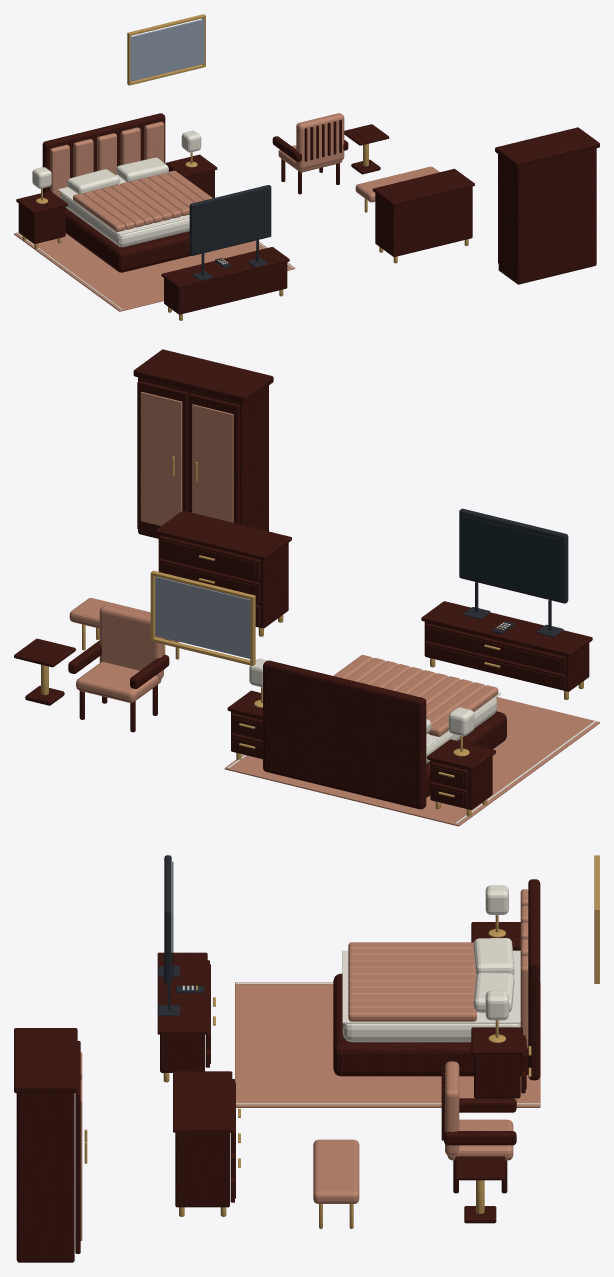
The model's file is room-08.glb.
3 renders of one model, top to bottom at view 1: azimuth 30°, elevation 25°; view 2: azimuth 150°, elevation 25°; view 3: azimuth 270°, elevation 25°, orthographic. The views are drawn at different scales.
Visible parts, largest first — view 1: WARDROBE | closed carcass.002, RUG | bound wool.002, DRESSER | closed carcass.002, TV | solid chassis.002, ART | ECLIPSE PLACEHOLDER | canvas solid.002, TV CONSOLE | closed carcass.002, BED | upholstered platform.002, WARDROBE | crown.002, BED | headboard frame.002, DRESSER | overhanging top.002, TV CONSOLE | overhanging top.002, CHAIR | shaped upholstered back.002 (+23 smaller); view 2: BED | headboard frame.002, RUG | bound wool.002, TV | SCREEN.002, ART | ECLIPSE PLACEHOLDER | canvas solid.002, WARDROBE | recessed door panel.005, WARDROBE | recessed door panel.004, WARDROBE | closed carcass.002, WARDROBE | crown.002, TV CONSOLE | overhanging top.002, DRESSER | overhanging top.002, CHAIR | shaped upholstered back.002, DRESSER | closed carcass.002 (+21 smaller); view 3: RUG | bound wool.002, WARDROBE | closed carcass.002, BED | upholstered platform.002, WARDROBE | crown.002, DRESSER | closed carcass.002, DRESSER | overhanging top.002, TV CONSOLE | overhanging top.002, LUGGAGE | upholstered bench.002, BED | sprung mattress.002, BED | headboard frame.002, BEDSIDE R | closed carcass.002, BED | quilt channel 10.002 (+26 smaller).
Part boxes in pixels (x1,y1,x2,y2): WARDROBE | closed carcass.002: (498,148,596,284); RUG | bound wool.002: (14,232,295,311); DRESSER | closed carcass.002: (375,186,472,256); TV | solid chassis.002: (189,185,271,255); ART | ECLIPSE PLACEHOLDER | canvas solid.002: (130,19,204,81); TV CONSOLE | closed carcass.002: (164,262,287,314); BED | upholstered platform.002: (65,208,190,272); WARDROBE | crown.002: (495,127,599,167); BED | headboard frame.002: (42,113,165,192); DRESSER | overhanging top.002: (372,168,474,205); TV CONSOLE | overhanging top.002: (161,247,289,288); CHAIR | shaped upholstered back.002: (296,113,344,169); BED | headboard frame.002: (263,660,426,809); RUG | bound wool.002: (224,697,599,826); TV | SCREEN.002: (461,516,561,599); ART | ECLIPSE PLACEHOLDER | canvas solid.002: (155,576,250,658); WARDROBE | recessed door panel.005: (140,391,182,525); WARDROBE | recessed door panel.004: (192,404,233,522); WARDROBE | closed carcass.002: (138,377,268,538); WARDROBE | crown.002: (133,349,273,402); TV CONSOLE | overhanging top.002: (421,601,592,656); DRESSER | overhanging top.002: (155,510,291,559); CHAIR | shaped upholstered back.002: (99,605,163,679); DRESSER | closed carcass.002: (158,534,288,628); RUG | bound wool.002: (235,982,540,1107); WARDROBE | closed carcass.002: (16,1093,74,1262); BED | upholstered platform.002: (333,973,528,1076); WARDROBE | crown.002: (14,1028,77,1093); DRESSER | closed carcass.002: (175,1132,229,1207); DRESSER | overhanging top.002: (173,1071,232,1132); TV CONSOLE | overhanging top.002: (157,952,207,1034); LUGGAGE | upholstered bench.002: (313,1139,359,1203); BED | sprung mattress.002: (342,1023,520,1042); BED | headboard frame.002: (528,879,540,1080); BEDSIDE R | closed carcass.002: (474,1055,520,1098); BED | quilt channel 10.002: (348,1008,476,1021).
Bounding box in the file's own units: 8.48 × 3.07 × 7.28.
8 materials, 1 textured.
